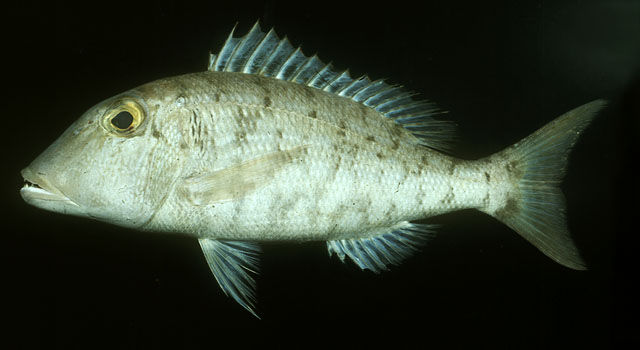fish: (20, 19, 611, 320)
